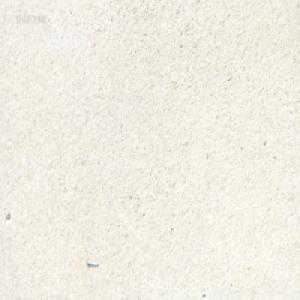Nail: (85, 257, 100, 267)
